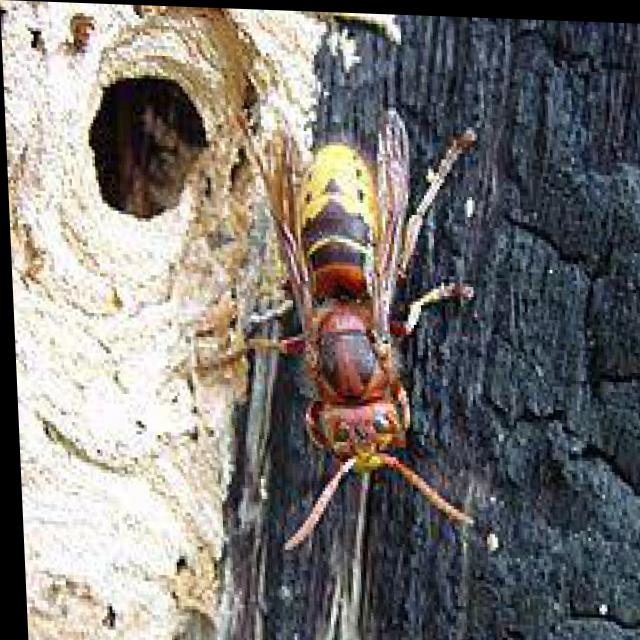Vespa Crabro: (204, 53, 524, 555)
